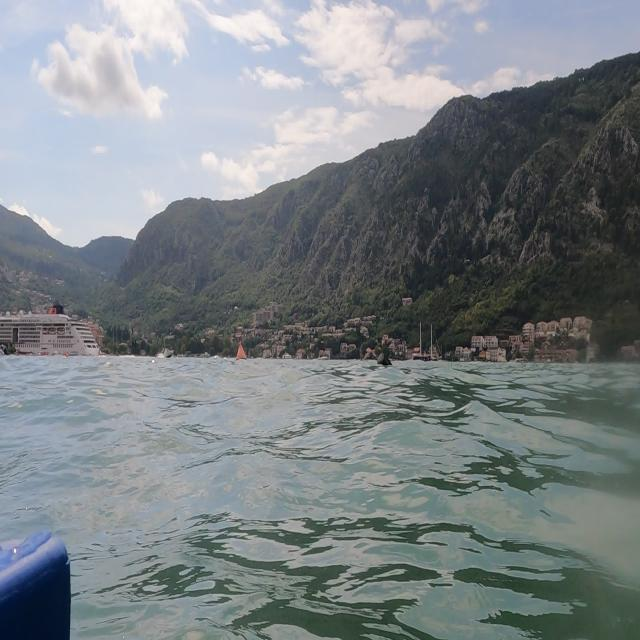boat: (2, 300, 102, 360)
buoy: (373, 344, 396, 374), (230, 336, 251, 366)
